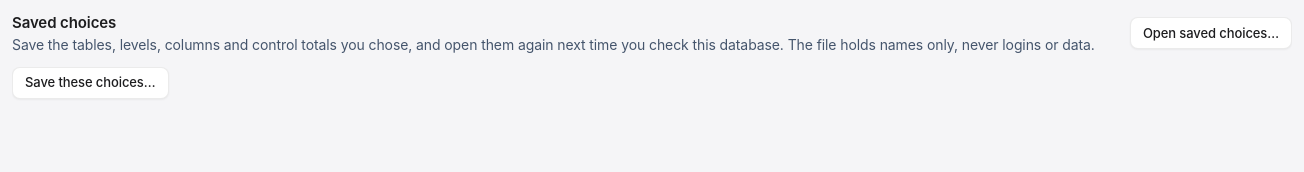
Test: CheckChoicesFile › says plainly when the dialog was closed, or the file was refused
What coordinates should you click on to do the following:
click the button "Open saved choices…"
I would click on:
 (1211, 33)
Its box is [1130,17,1292,49].
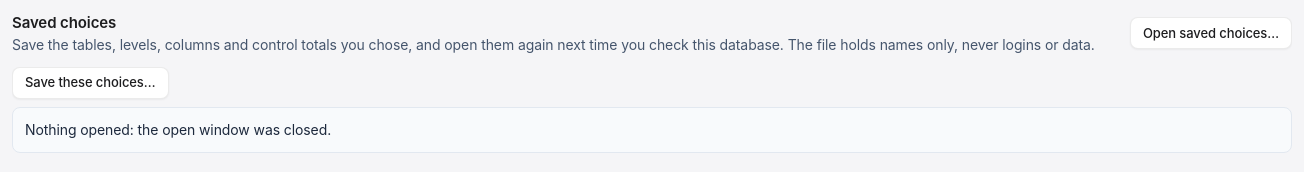
Result: the text "Nothing opened: the open window was closed." is shown at [25,120,331,138]
What coordinates should you click on to do the following:
click the button "Open saved choices…"
I would click on:
 (1211, 33)
Its box is [1130,17,1292,49].
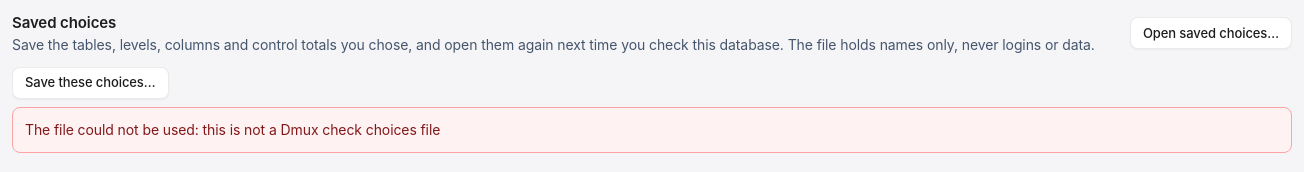
Result: the message shows "this is not a Dmux check choices file" at [25,120,440,138]
